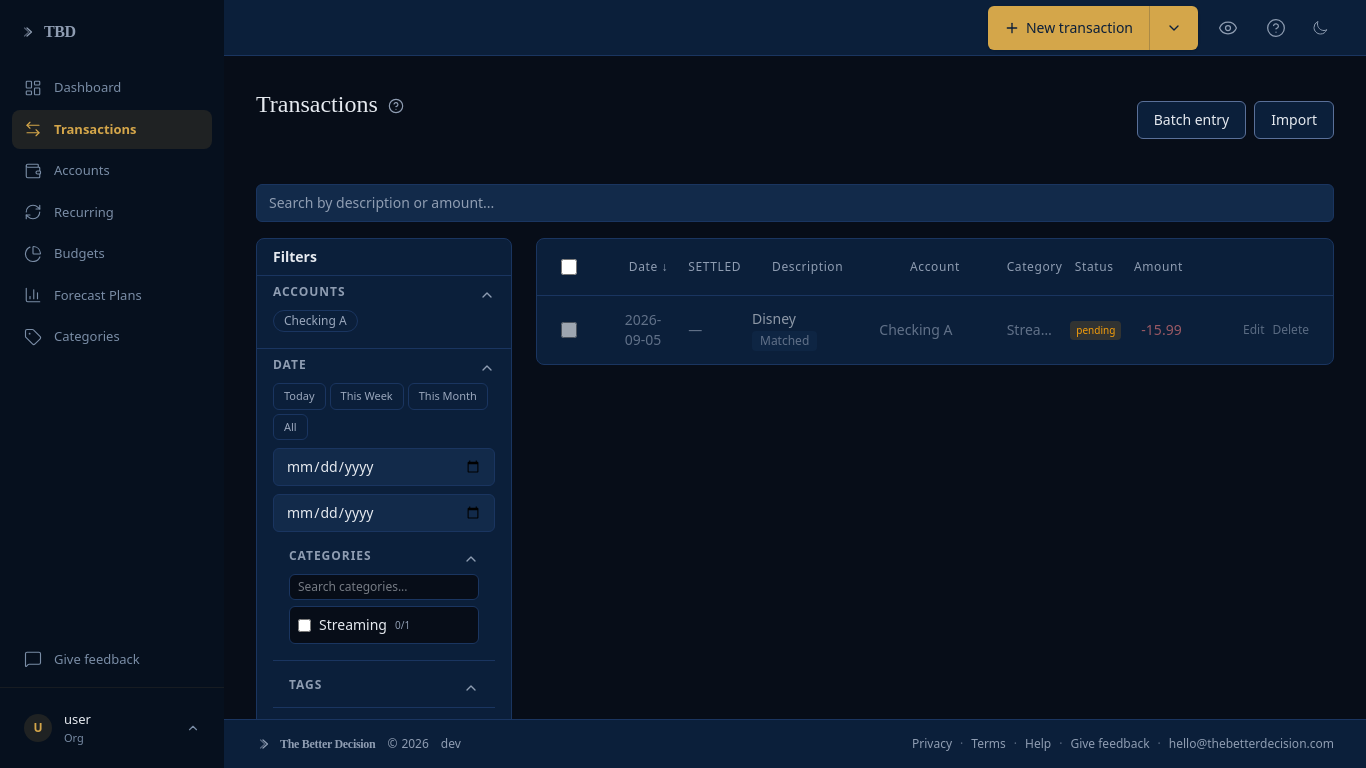
transactions page: skip this occurrence (TBD-272) › F9: NOT for a linked pending recurring row
Click the button with aria-label "Edit:": (1254, 330) [1243,322,1264,338]
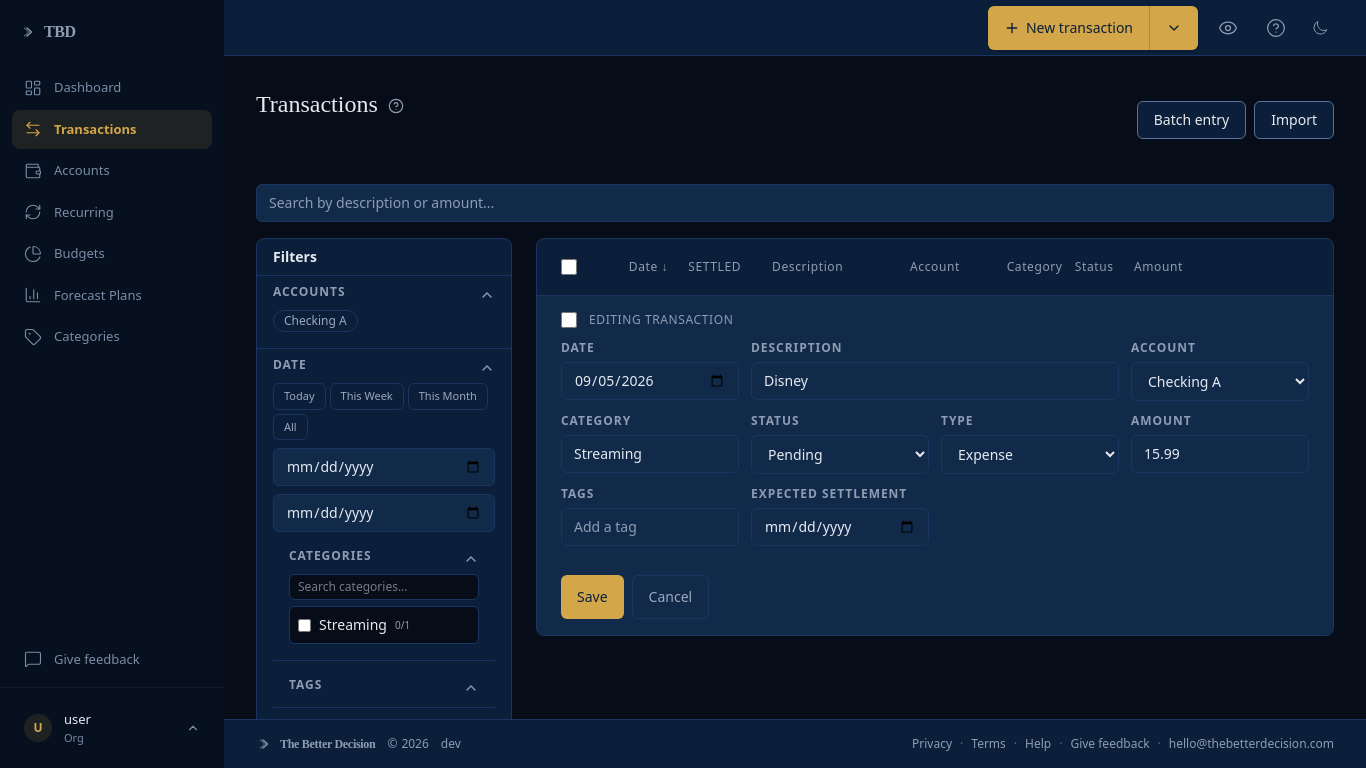
Now the button "Save" is shown, box [561,575,624,619]
